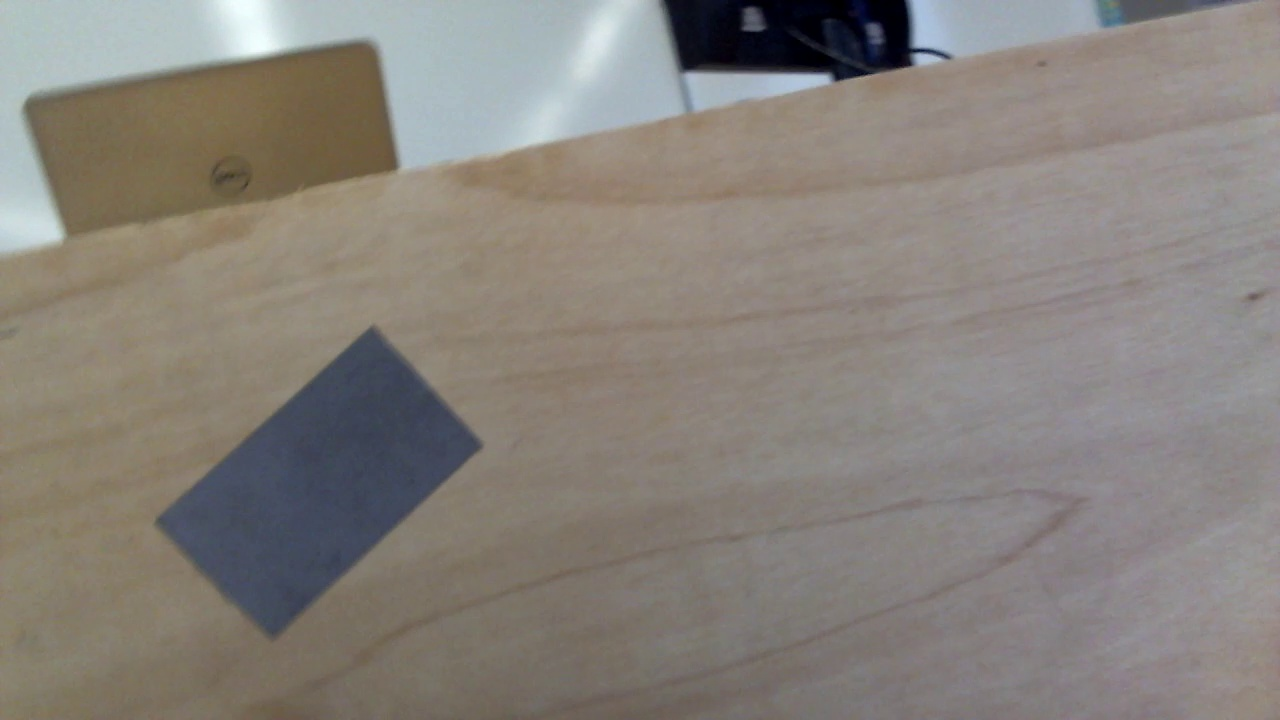Tape: (154, 327, 486, 639)
